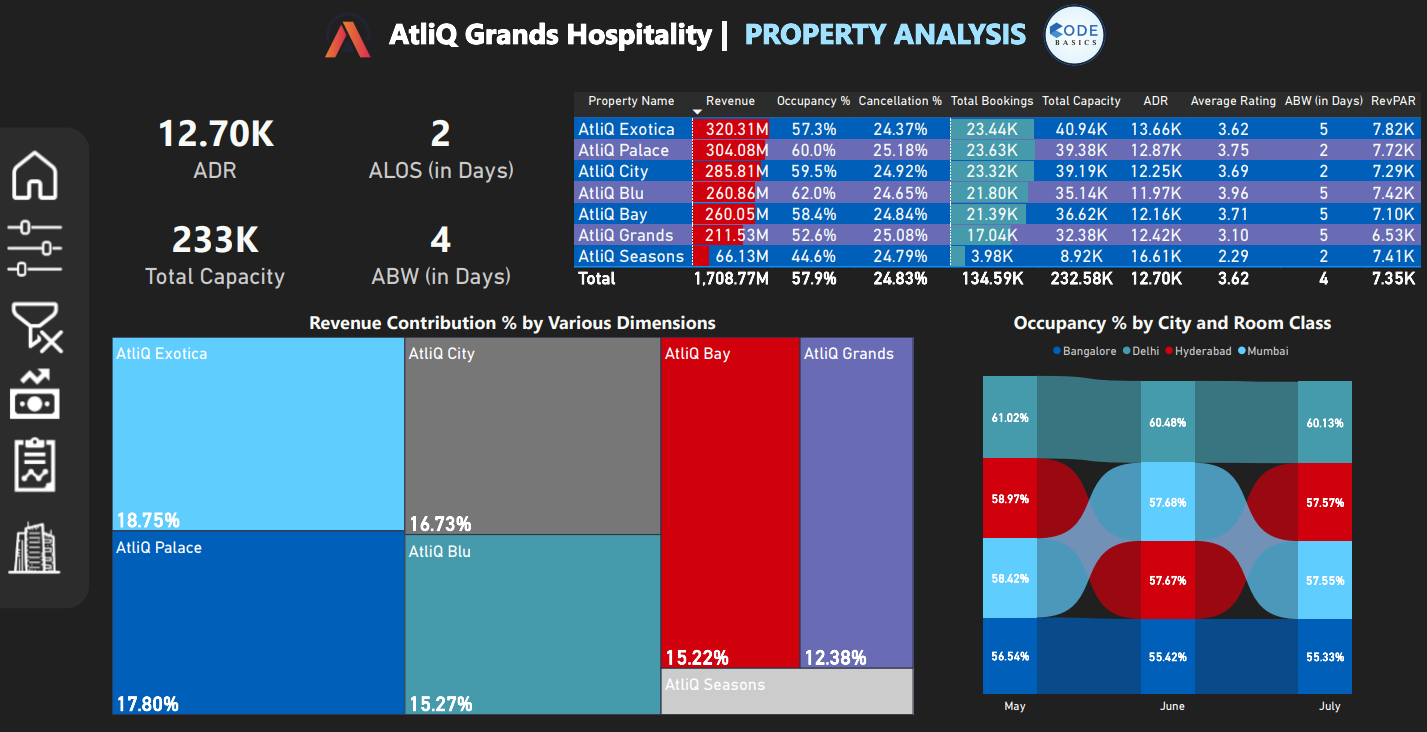

Layout of this report page (visuals, bound fields, positions):
{"tool":"powerbi","page":{"name":"Property Analysis","canvas":[1890,970],"ordinal":3},"visuals":[{"type":"group","id":"g1","title":"PA Heading","box":[411.6,-0.7,1060.4,96],"z":0},{"type":"image","title":"AtliQ Logo","box":[411.6,-0.7,98.2,96],"z":0,"group":"g1"},{"type":"image","title":"Codebasics Logo","box":[1373.8,-0.7,98.2,96],"z":1000,"group":"g1"},{"type":"card","title":"ADR","fields":{"Values":["Metrics.ADR"]},"box":[145.4,117.9,288,145.4],"z":1000},{"type":"shape","title":"Side Panel RC","box":[0,169.1,123.4,635.4],"z":1000,"group":"g2"},{"type":"textbox","title":"AGH PA Heading","box":[503.2,14.6,870.5,65.5],"z":2000,"group":"g1"},{"type":"actionButton","title":"Home","box":[0,189.7,100.6,86.9],"z":2000,"group":"g2"},{"type":"card","title":"Total Capacity","fields":{"Values":["Metrics.Total Capacity"]},"box":[145.4,252.3,288,156.3],"z":2000},{"type":"tableEx","title":"PA Table","fields":{"Values":["dim_hotels.property_name","Metrics.Revenue","Metrics.Occupancy %","Metrics.Cancellation %","Metrics.Total Bookings","Metrics.Total Capacity","Metrics.ADR","Metrics.Average Rating","Metrics.ABW","Metrics.RevPAR"]},"box":[757,117.9,1132.8,290.7],"z":3000},{"type":"actionButton","title":"Filter","box":[0,285.7,100.6,86.9],"z":3000,"group":"g2"},{"type":"card","title":"ALOS (in Days)","fields":{"Values":["Metrics.ALOS (Daywise)"]},"box":[433.4,117.9,307.2,145.4],"z":4000},{"type":"card","title":"ABW (in Days)","fields":{"Values":["Metrics.Average Booking Window"]},"box":[433.4,252.3,307.2,156.3],"z":5000},{"type":"actionButton","title":"Clear Filter","box":[0,386.2,100.6,86.9],"z":5000,"group":"g2"},{"type":"ribbonChart","title":"Occupancy % by City and Room Class","fields":{"Category":["dim_date.date.Variation.Date Hierarchy.Month"],"Y":["Metrics.Occupancy %"],"Series":["dim_hotels.city"]},"box":[1215.1,408.7,674.7,540.3],"z":6000},{"type":"actionButton","title":"RA","box":[0,477.7,100.6,86.9],"z":6000,"group":"g2"},{"type":"treemap","title":"Revenue Contribution % by Various Dimensions","fields":{"Group":["dim_hotels.property_name","dim_hotels.city","fact_bookings.booking_platform","dim_date.date.Variation.Date Hierarchy.Month","dim_rooms.room_class","dim_hotels.category","fact_bookings.booking_status"],"Values":["Metrics.Revenue"]},"box":[148.1,408.7,1067,540.3],"z":7000},{"type":"actionButton","title":"BA","box":[0,571.4,100.6,86.9],"z":7000,"group":"g2"},{"type":"actionButton","title":"PA","box":[0,681.1,100.6,86.9],"z":8000,"group":"g2"},{"type":"group","id":"g2","title":"Side Panel","box":[0,169.1,125.1,636.7],"z":9000}]}

Visuals, with their boxes in screenshot pixels (x1, y1, x2, y2), scaled from the page's 1890x970 canvas onto the 1427x732 screenshot:
"PA Heading" group: <box>311,0,1111,72</box>
"AtliQ Logo" image: <box>311,0,385,72</box>
"Codebasics Logo" image: <box>1037,0,1111,72</box>
"ADR" card: <box>110,89,327,199</box>
"Side Panel RC" shape: <box>0,128,93,607</box>
"AGH PA Heading" textbox: <box>380,11,1037,60</box>
"Home" actionButton: <box>0,143,76,209</box>
"Total Capacity" card: <box>110,190,327,308</box>
"PA Table" tableEx: <box>572,89,1426,308</box>
"Filter" actionButton: <box>0,216,76,281</box>
"ALOS (in Days)" card: <box>327,89,559,199</box>
"ABW (in Days)" card: <box>327,190,559,308</box>
"Clear Filter" actionButton: <box>0,291,76,357</box>
"Occupancy % by City and Room Class" ribbonChart: <box>917,308,1426,716</box>
"RA" actionButton: <box>0,360,76,426</box>
"Revenue Contribution % by Various Dimensions" treemap: <box>112,308,917,716</box>
"BA" actionButton: <box>0,431,76,497</box>
"PA" actionButton: <box>0,514,76,580</box>
"Side Panel" group: <box>0,128,94,608</box>
